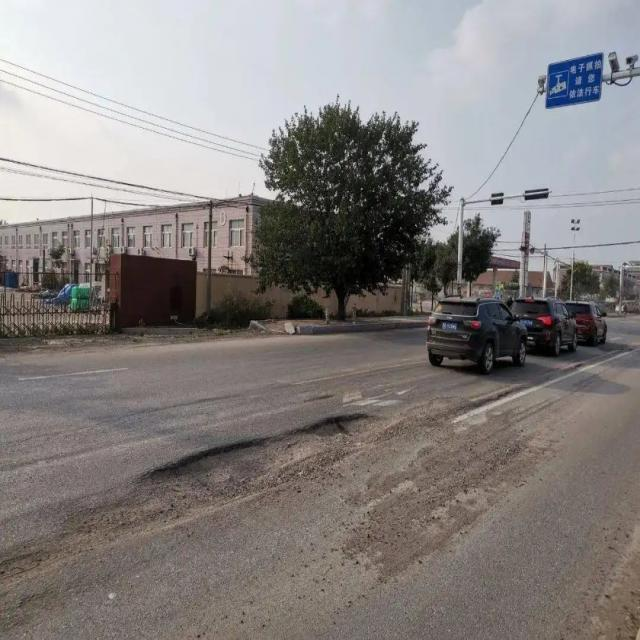Pothole: (136, 409, 385, 526)
